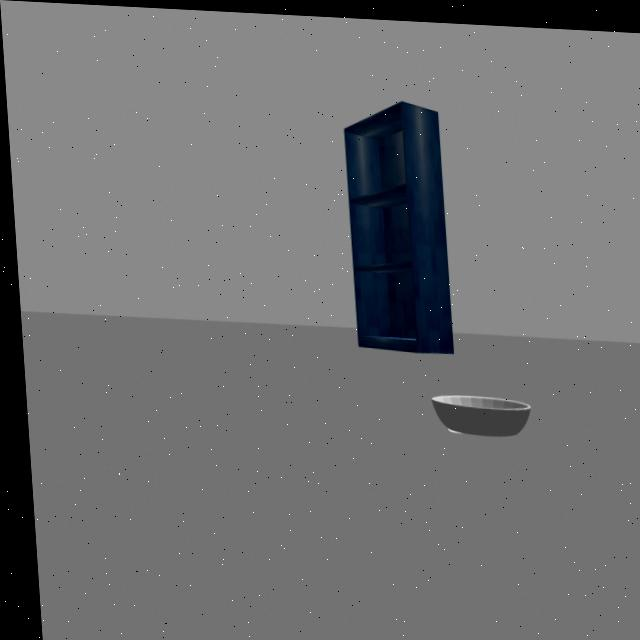bowl: (414, 371, 541, 446)
shelf: (316, 90, 477, 366)
